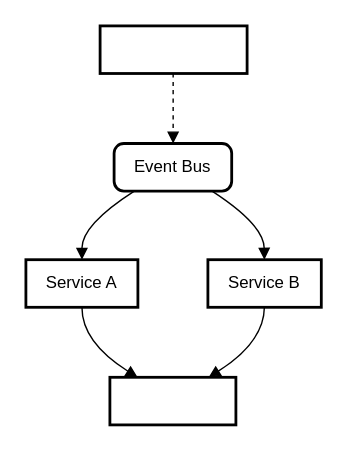
This 346x449 diagram has some shape labels left out. The centre of each missing label's shape, as x and y in pixels:
API Gateway: (x=173, y=49)
Data Store: (x=172, y=400)
